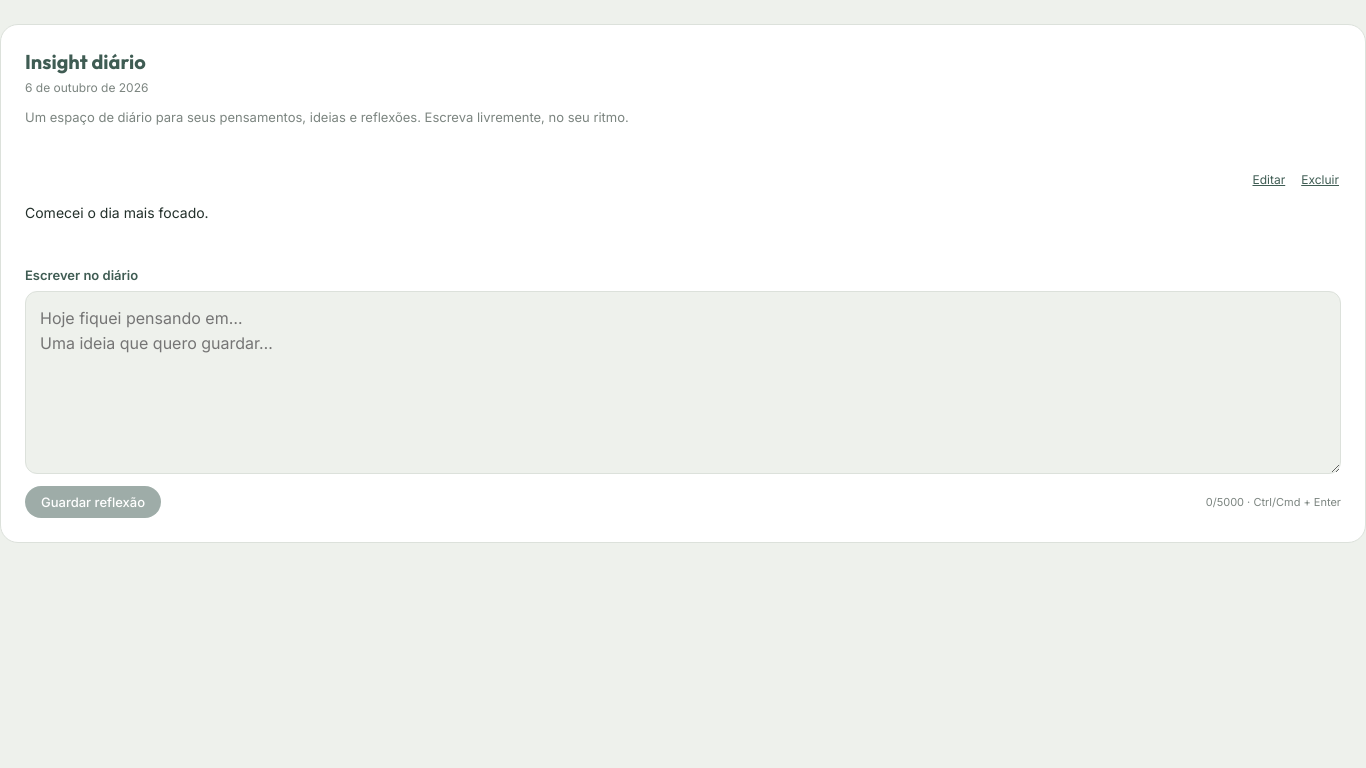
Insight diário — interface › edita uma entrada e pede confirmação antes de excluir
This screenshot has width=1366, height=768.
Click the button with aria-label "Editar reflexão 1".
click(1269, 179)  # box [1250, 166, 1287, 193]
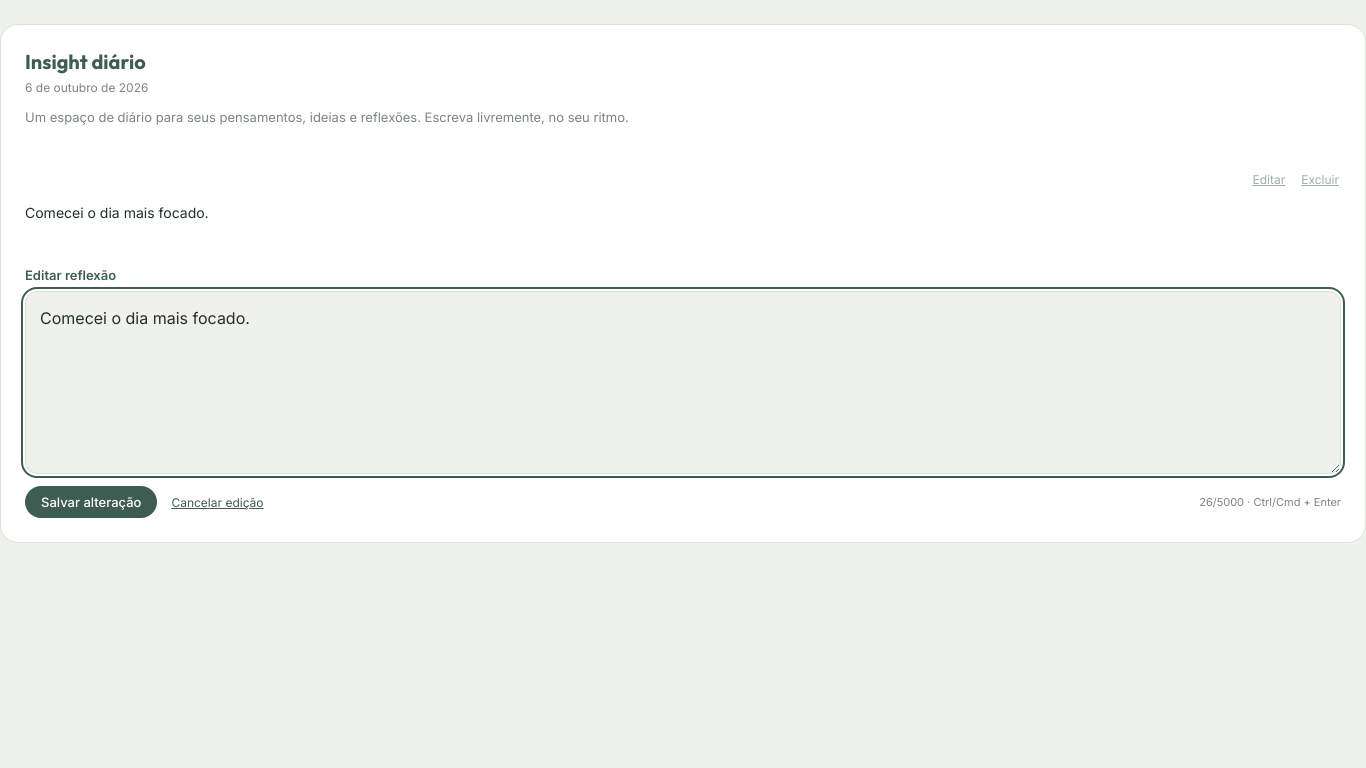
Replace the text in the text box labelled "Editar reflexão" with "O dia correu bem." at [683, 382], box [25, 291, 1341, 474]
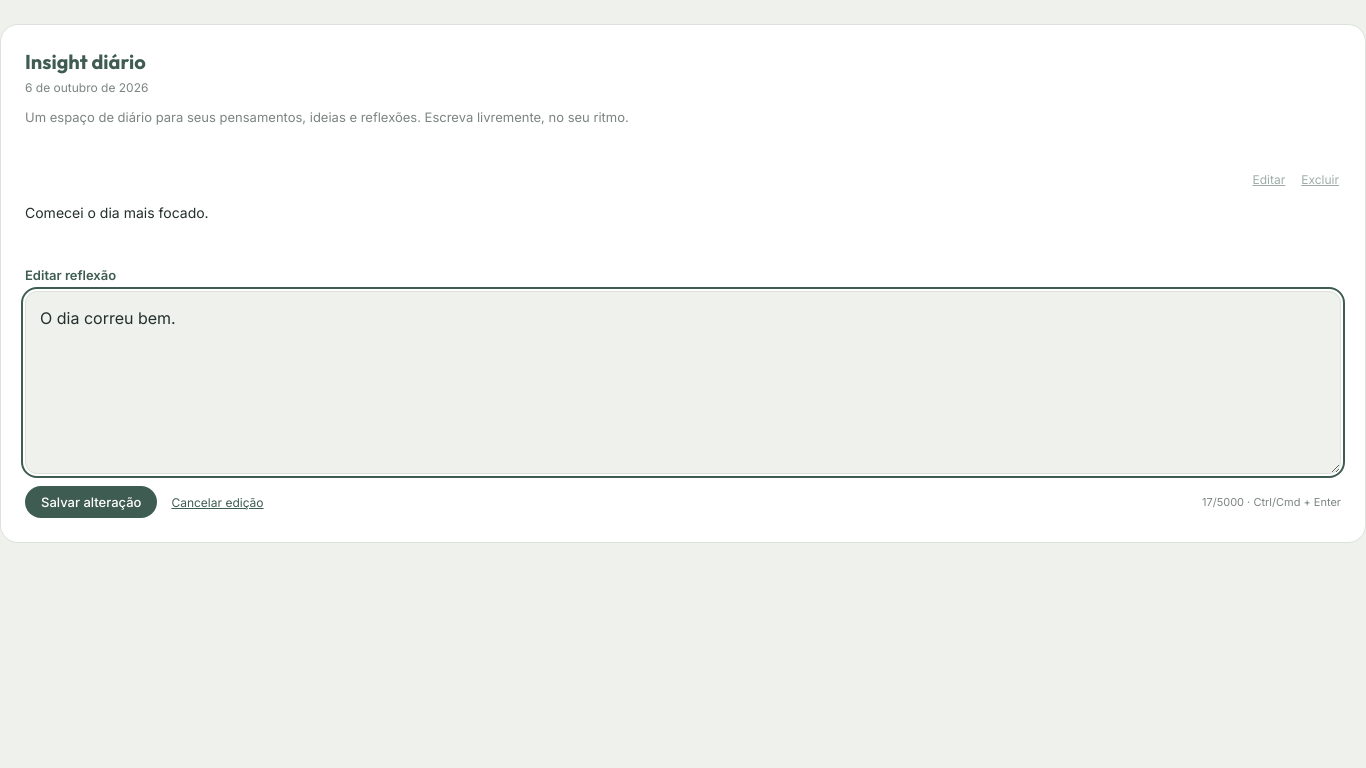
Click the button "Salvar alteração".
click(91, 502)  # box [25, 486, 157, 518]
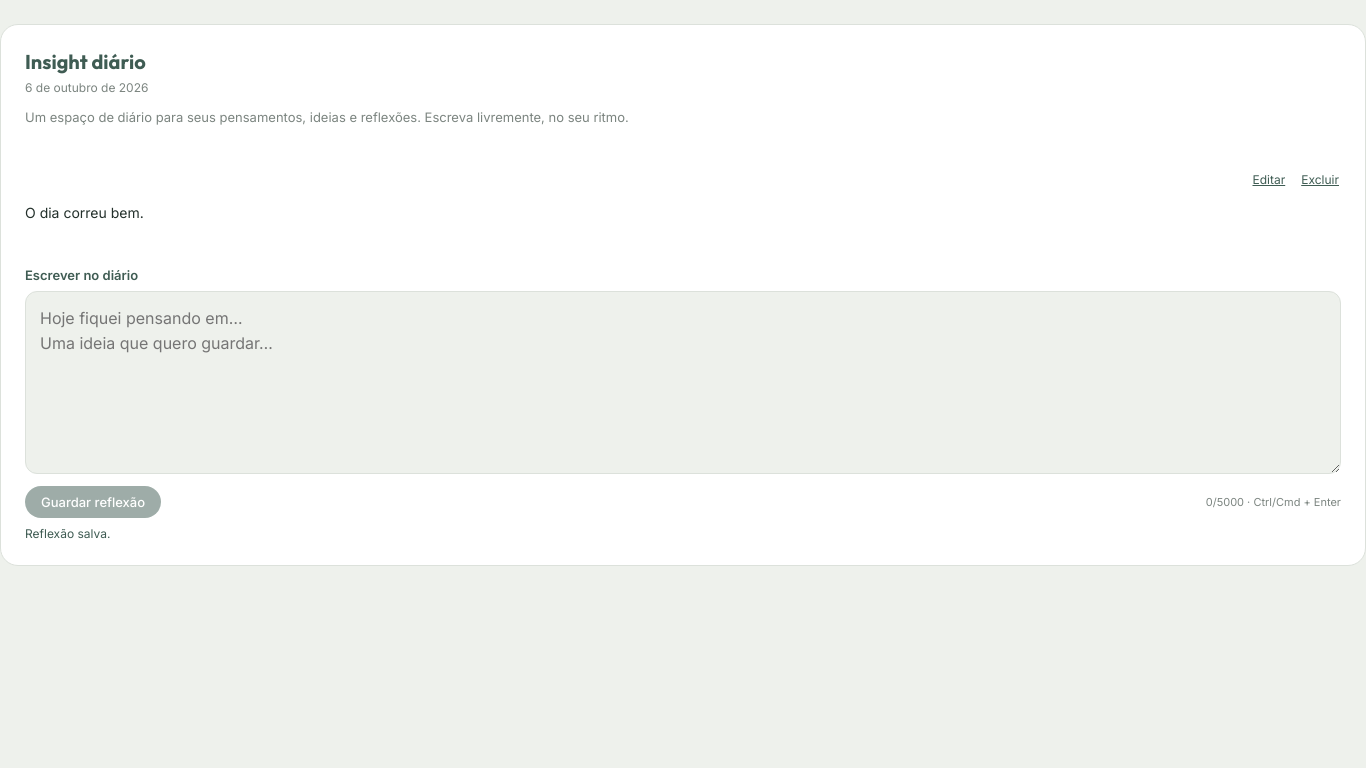
Result: the text "O dia correu bem." is shown at [25, 204, 144, 221]
Click the button with aria-label "Excluir reflexão 1".
click(1320, 179)  # box [1299, 166, 1341, 193]
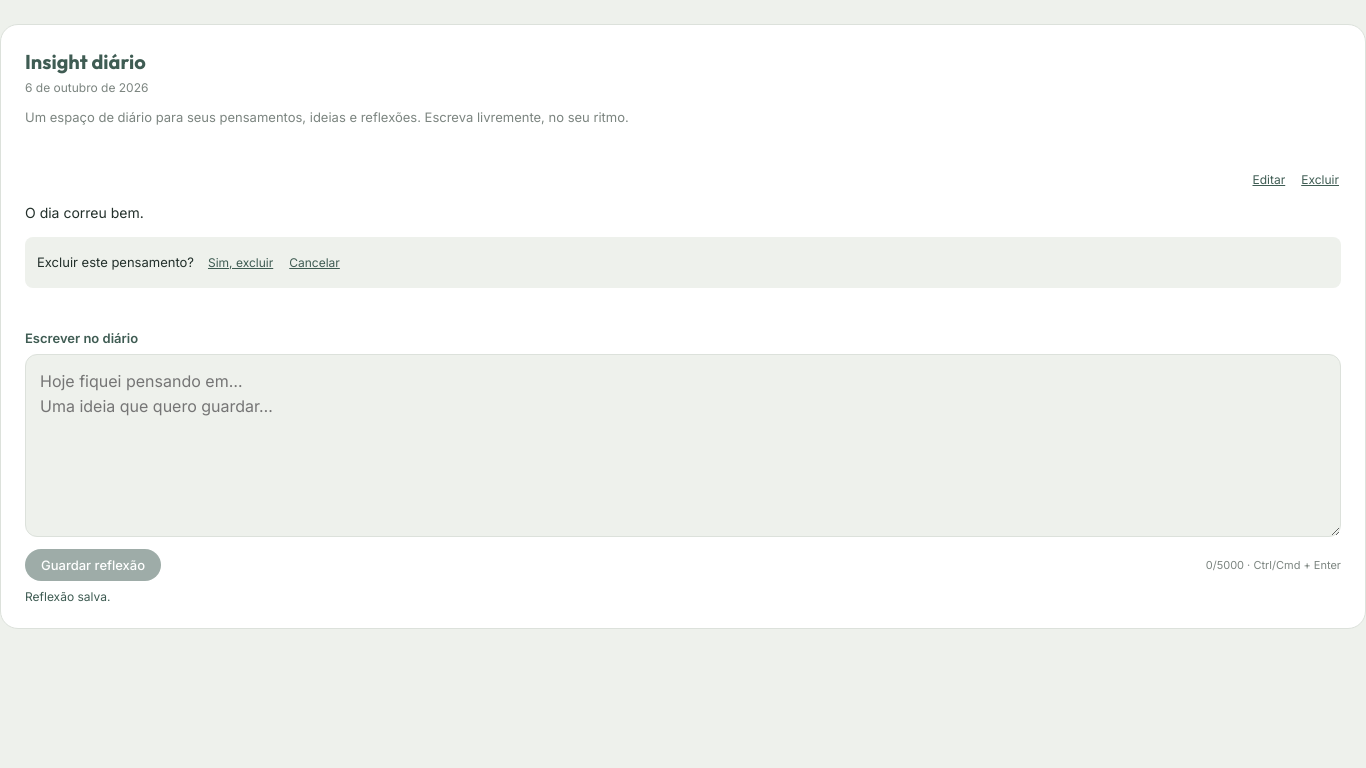
Click the button "Sim, excluir".
click(241, 262)  # box [206, 249, 275, 276]
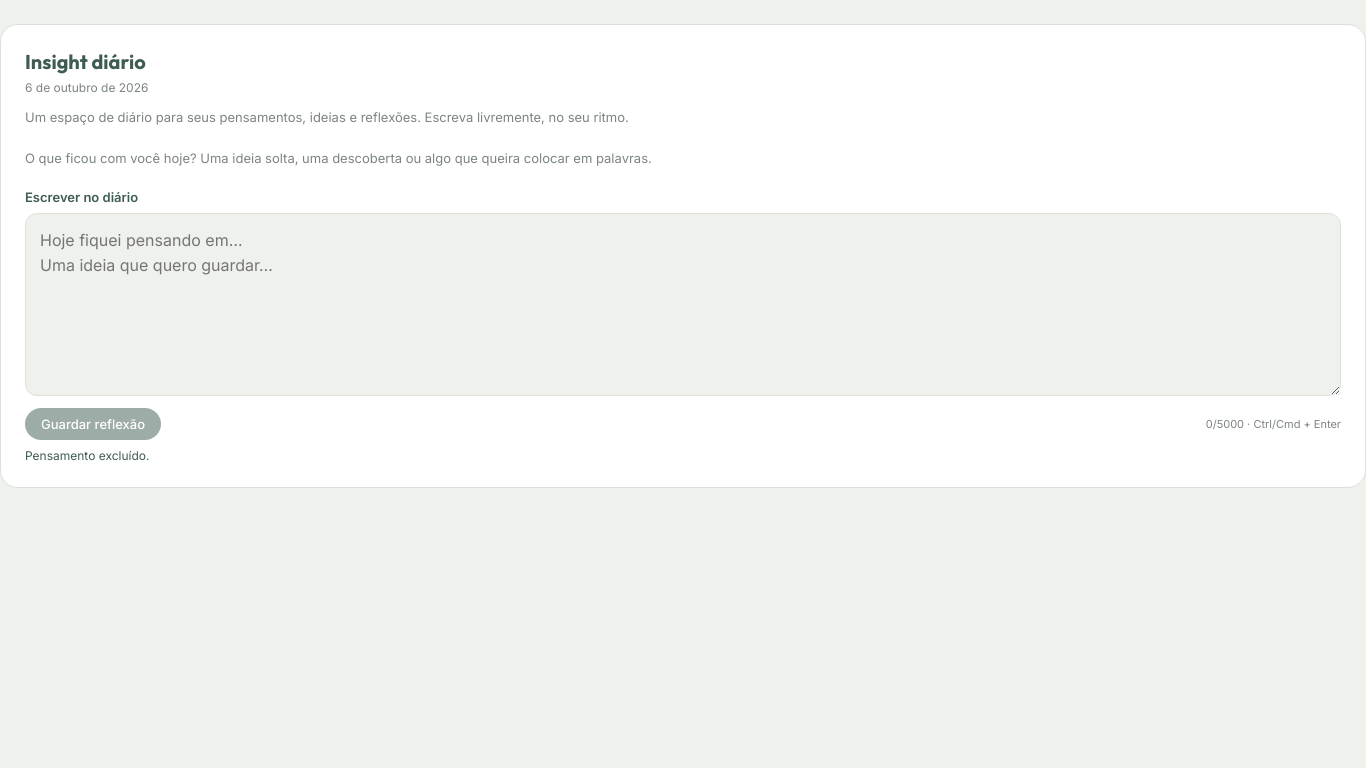
Result: the text "O dia correu bem." is gone
